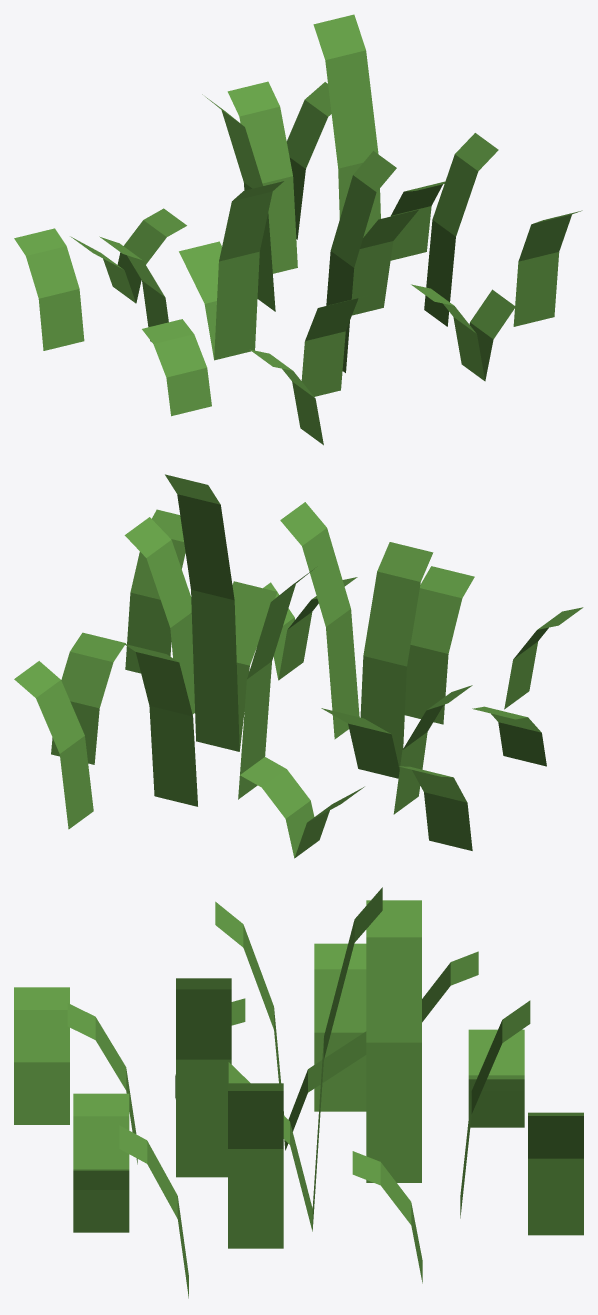
The model's file is grass-2.glb.
3 views of the same model, one above another, from view 1: azimuth 30°, elevation 25°; view 2: azimuth 150°, elevation 25°; view 3: azimuth 270°, elevation 25° (orthographic). The views are drawn at different scales.
Visible parts, largest first — view 1: grass_large; view 2: grass_large; view 3: grass_large.
Part boxes in pixels (x1,y1,x2,y2): grass_large: [14, 14, 582, 445]; grass_large: [14, 474, 583, 858]; grass_large: [14, 887, 583, 1298].
Bounding box in the file's own units: 0.4026 × 0.25 × 0.4015.
